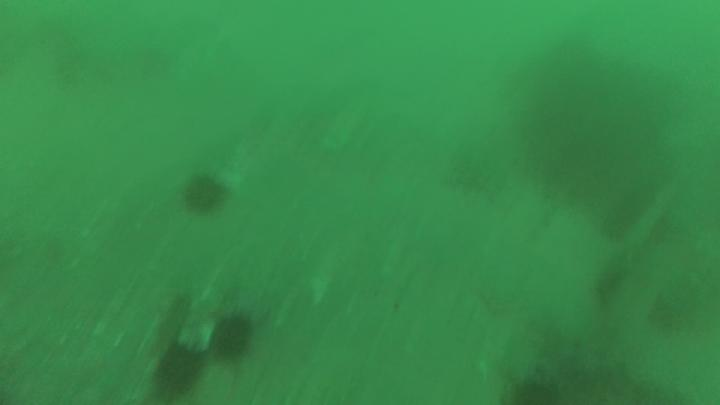echinus: (142, 339, 210, 405), (209, 312, 258, 366), (182, 171, 231, 219)
